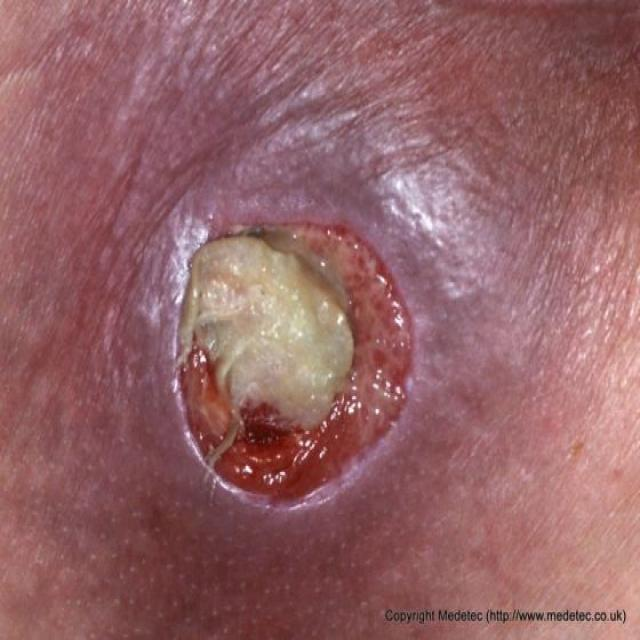Unstageable: (180, 222, 411, 501)
